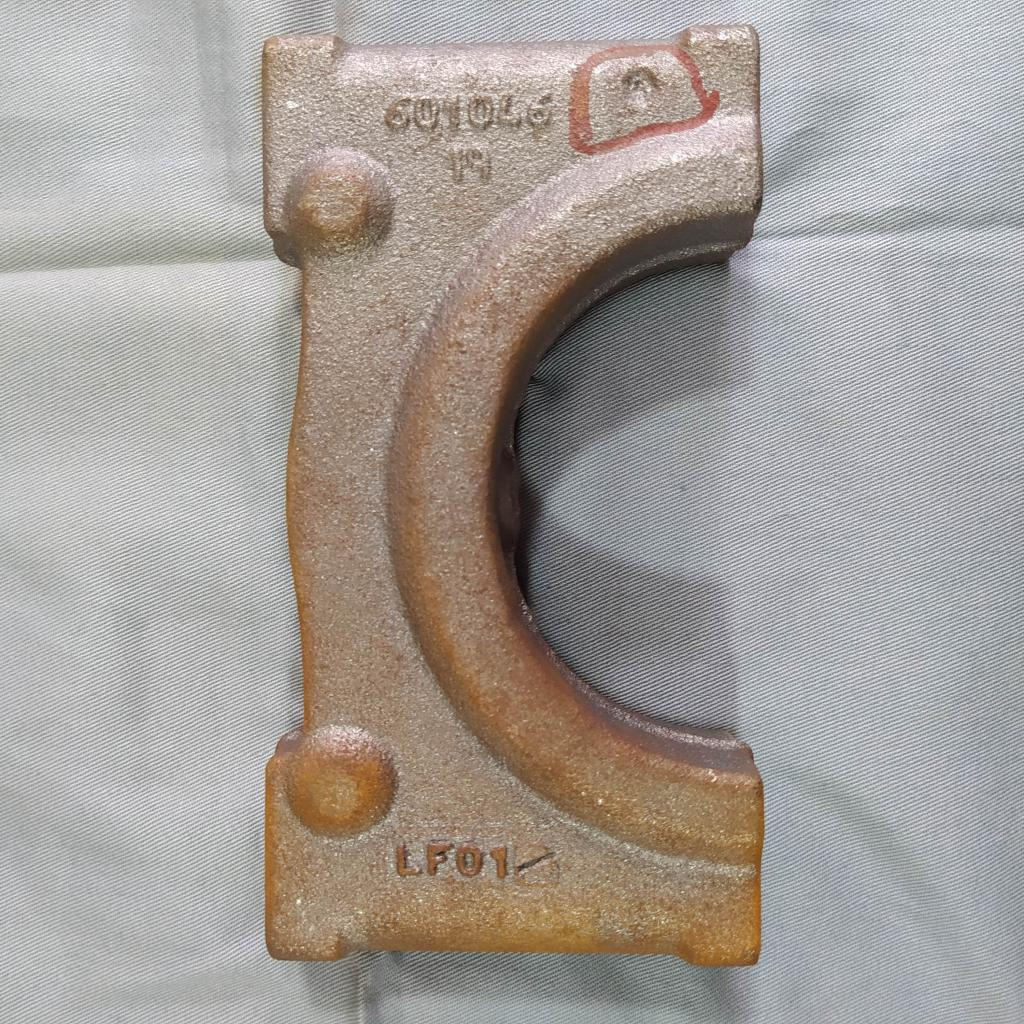buraco: (617, 63, 668, 116)
